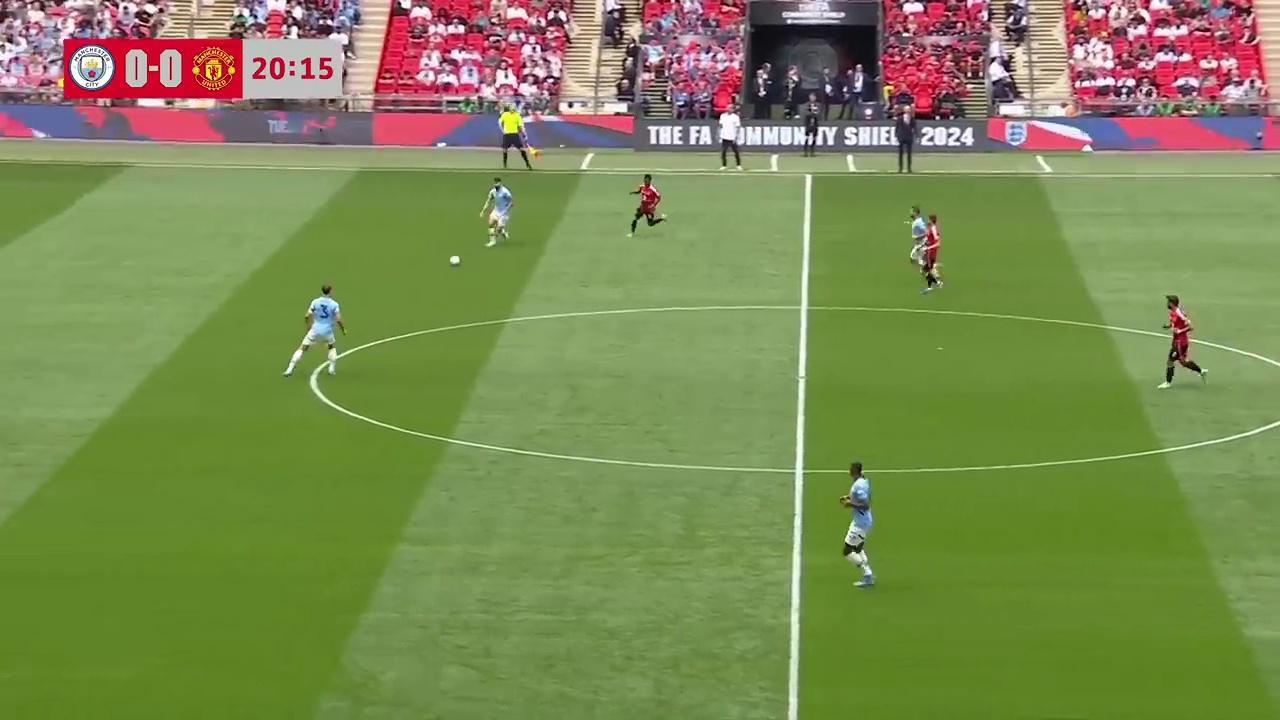ball: (447, 251, 462, 266)
player: (281, 284, 346, 387), (1158, 298, 1208, 388), (839, 461, 875, 586), (481, 177, 514, 251), (627, 175, 661, 237), (918, 214, 943, 293), (906, 206, 928, 267)
referee: (489, 102, 538, 171)
